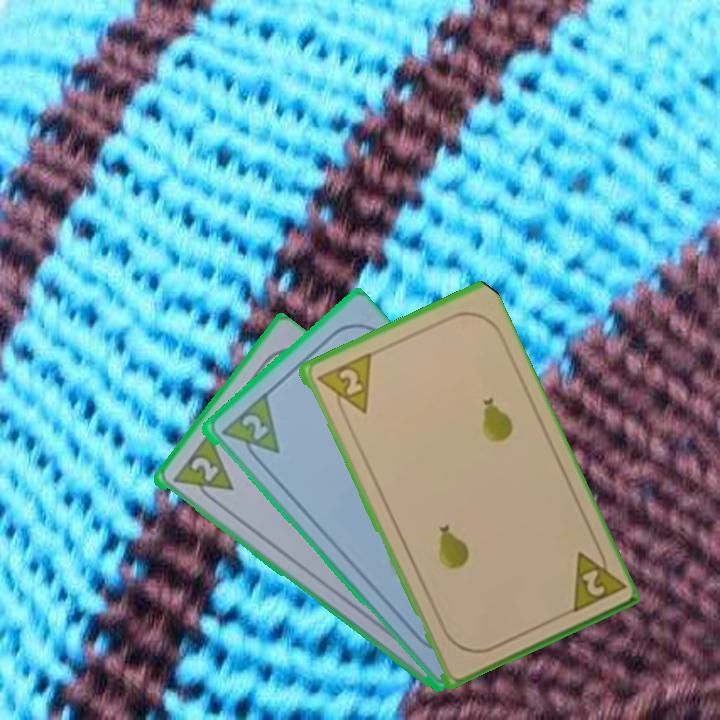2p: (564, 540, 626, 616), (311, 349, 374, 423), (237, 410, 271, 443), (186, 453, 221, 485)
